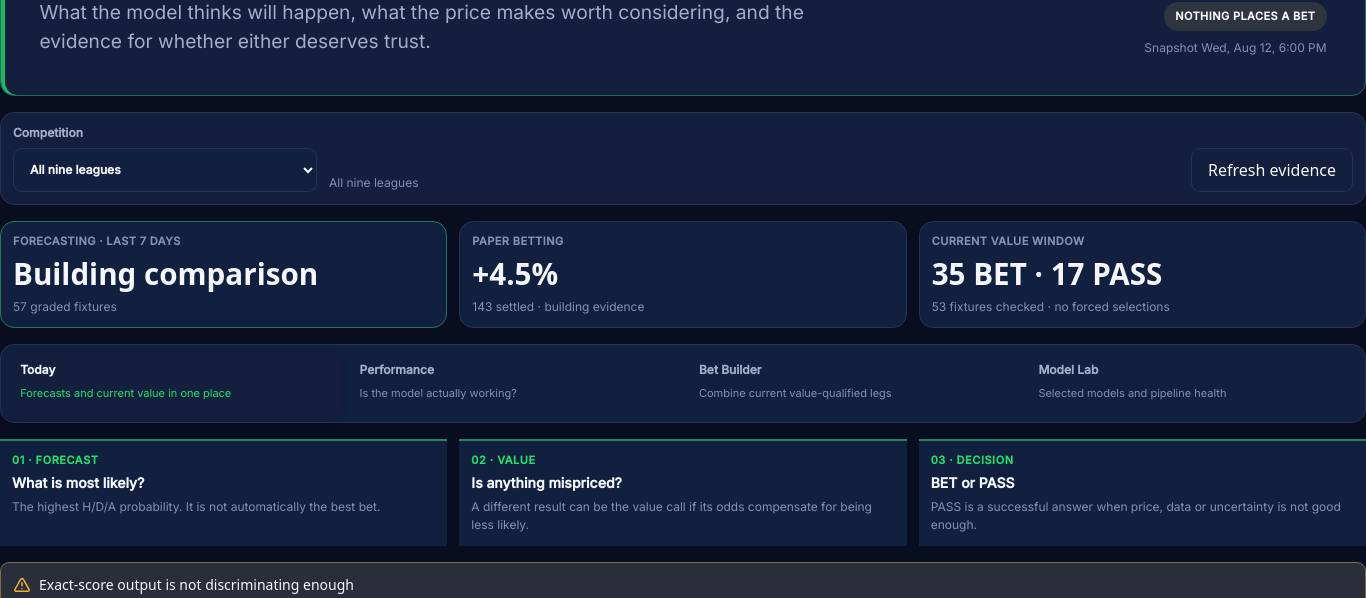
AI Lab comparable market evidence › does not claim a market comparison it has not got
Click the button "Performance Is the model actually working?" at (513, 384), box [347,352,680,416]
(page scrolled)
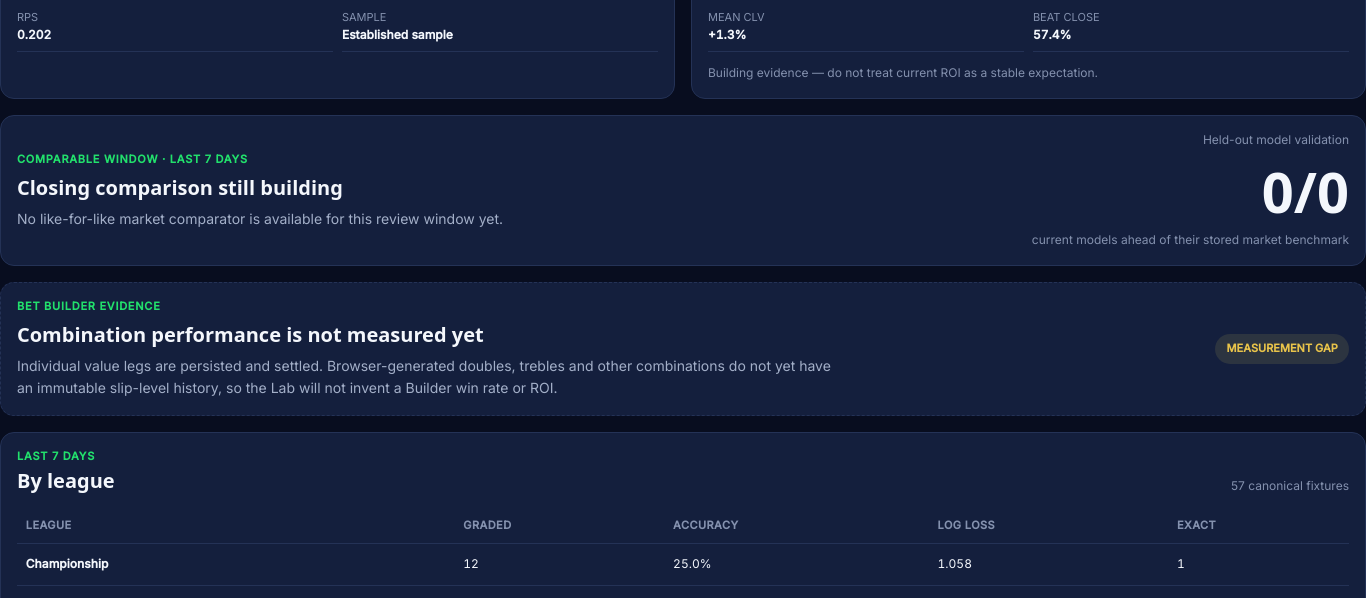
Expected: the heading "Closing comparison still building" is shown, [17,174,343,201]
Expected: the text "No like-for-like market comparator" is shown, [17,210,503,227]
